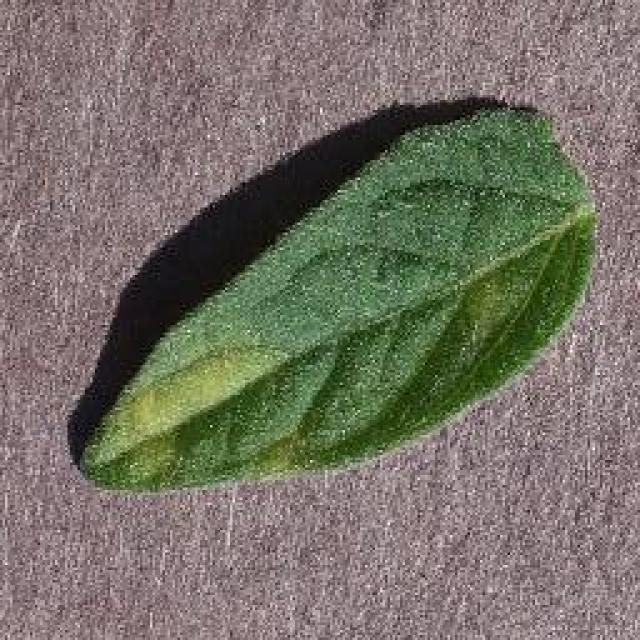Tomato mold leaf: (71, 94, 604, 498)
